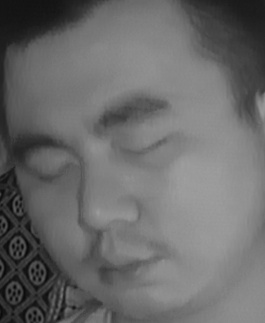blink: (122, 128, 173, 164), (28, 155, 76, 189)
mouth: (85, 236, 164, 292)
